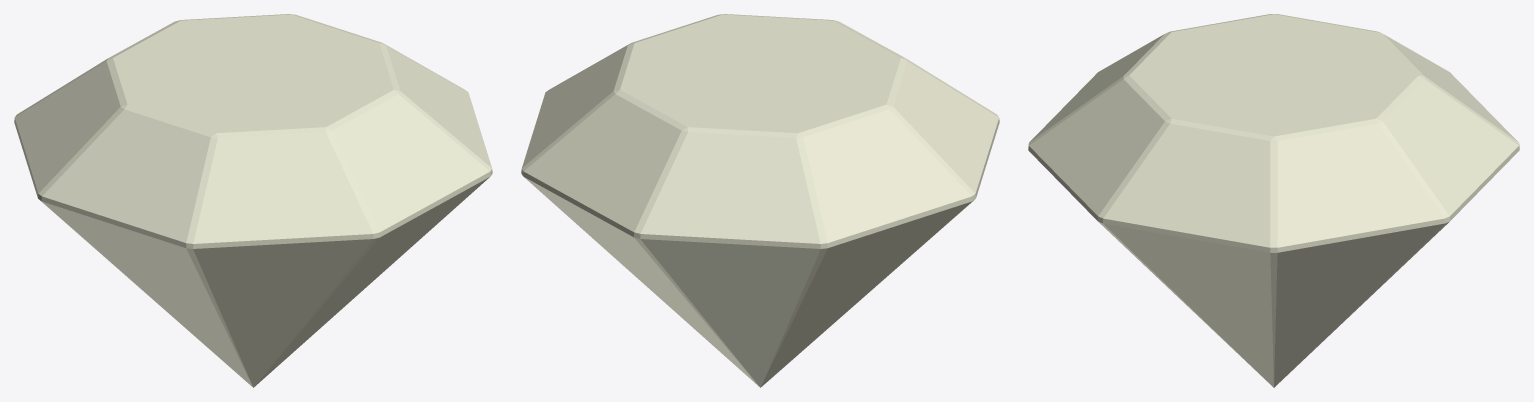
Rendered from Diamond.fbx.
3 views of the same model, side by side, from view 1: azimuth 30°, elevation 25°; view 2: azimuth 150°, elevation 25°; view 3: azimuth 270°, elevation 25° (orthographic).
Visible parts, largest first — view 1: Цилиндр; view 2: Цилиндр; view 3: Цилиндр.
Boxes of the visible parts, x1,y1,x2,y2 form: Цилиндр: [14, 14, 492, 387]; Цилиндр: [521, 14, 999, 387]; Цилиндр: [1028, 14, 1519, 387].
Size of the model in its own units: 114 by 79.96 by 114.
